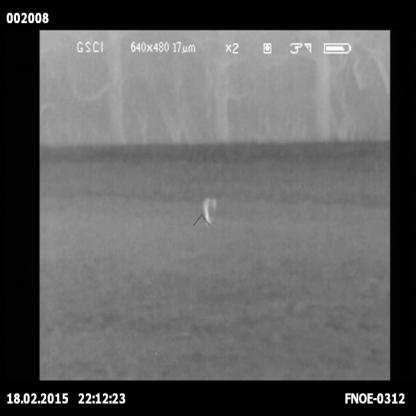rehkitze: (198, 195, 219, 226)
